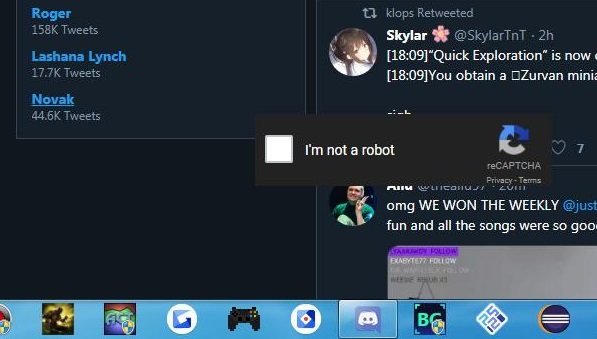captcha: (265, 134, 400, 163)
